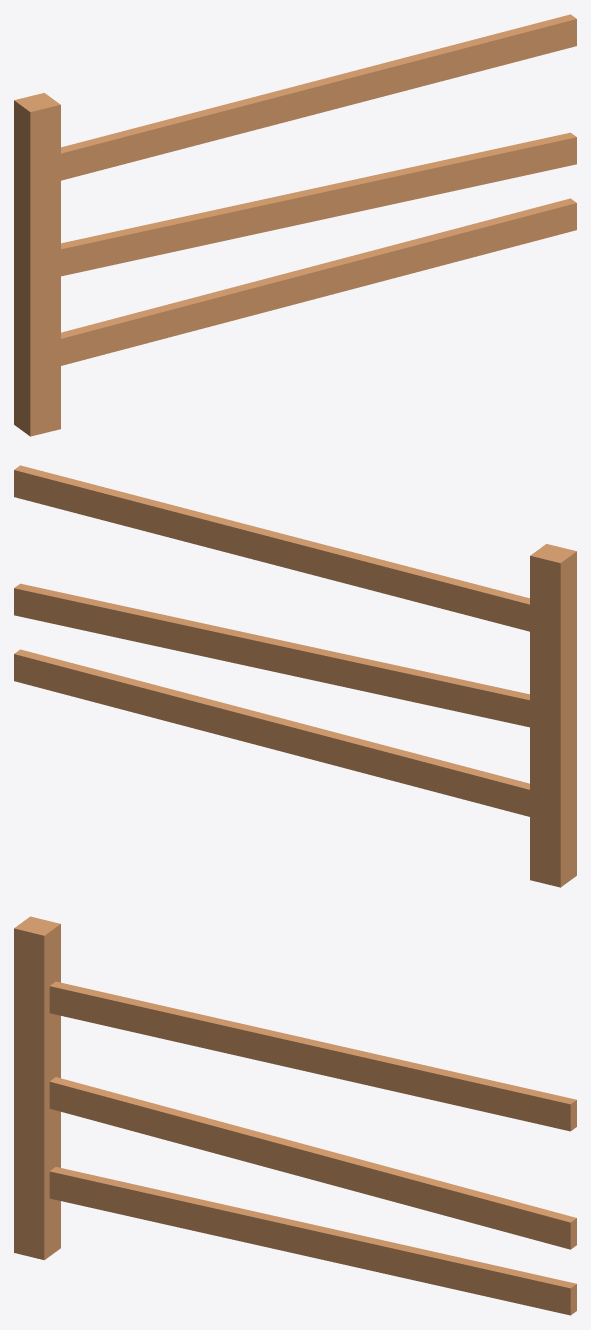
File: fence_02.fbx
The picture shows the model from 3 angles, top to bottom: view 1: azimuth 30°, elevation 25°; view 2: azimuth 150°, elevation 25°; view 3: azimuth 330°, elevation 25°; orthographic projection.
Visible parts, largest first — view 1: fence_02; view 2: fence_02; view 3: fence_02.
Part boxes in pixels (x1,y1,x2,y2): fence_02: (14, 14, 576, 436); fence_02: (14, 465, 576, 887); fence_02: (14, 916, 576, 1315).
Bounding box in the file's own units: 188 × 106 × 9.65.
